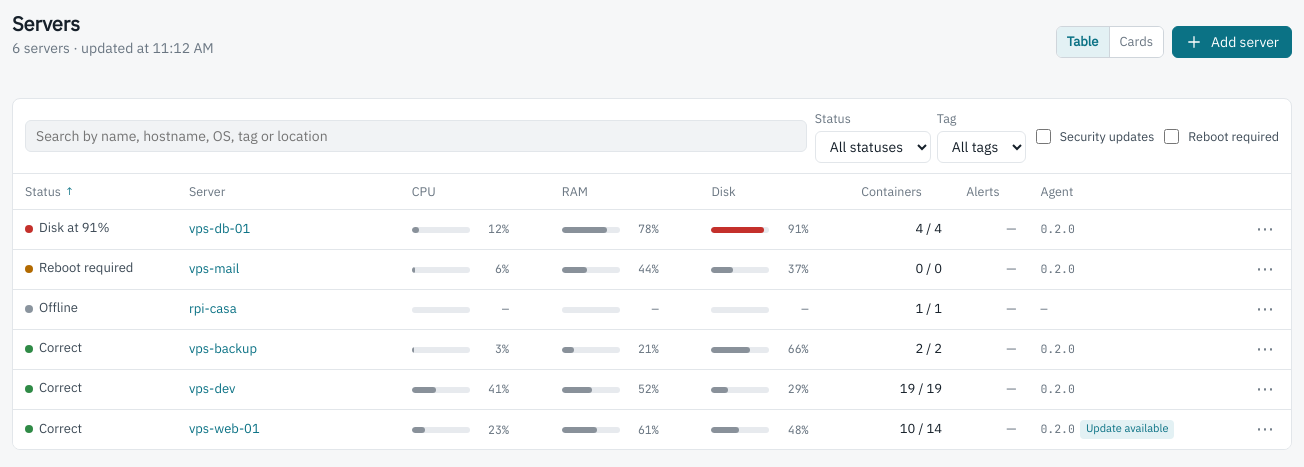
it: Servers › searches and writes the query to the URL
This screenshot has width=1304, height=467.
Expected: the link "vps-web-01" is shown, [189,420,260,437]
Type "vps-db" into the search field labelled "Search" at [416, 136], box [25,120,807,152]
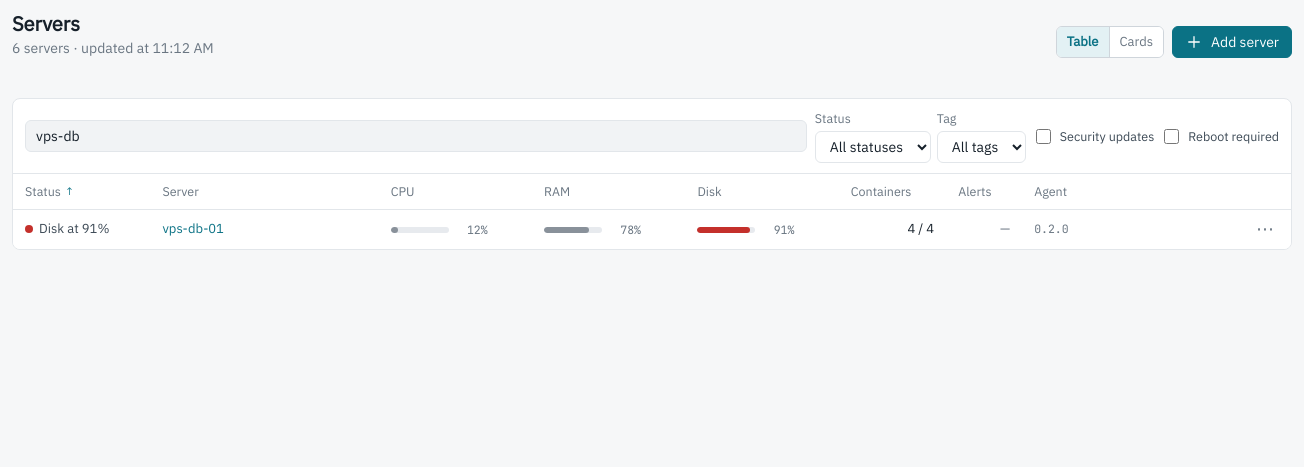
Expected: the link "vps-db-01" is shown, [162,220,224,237]
Result: the link "vps-web-01" is gone
